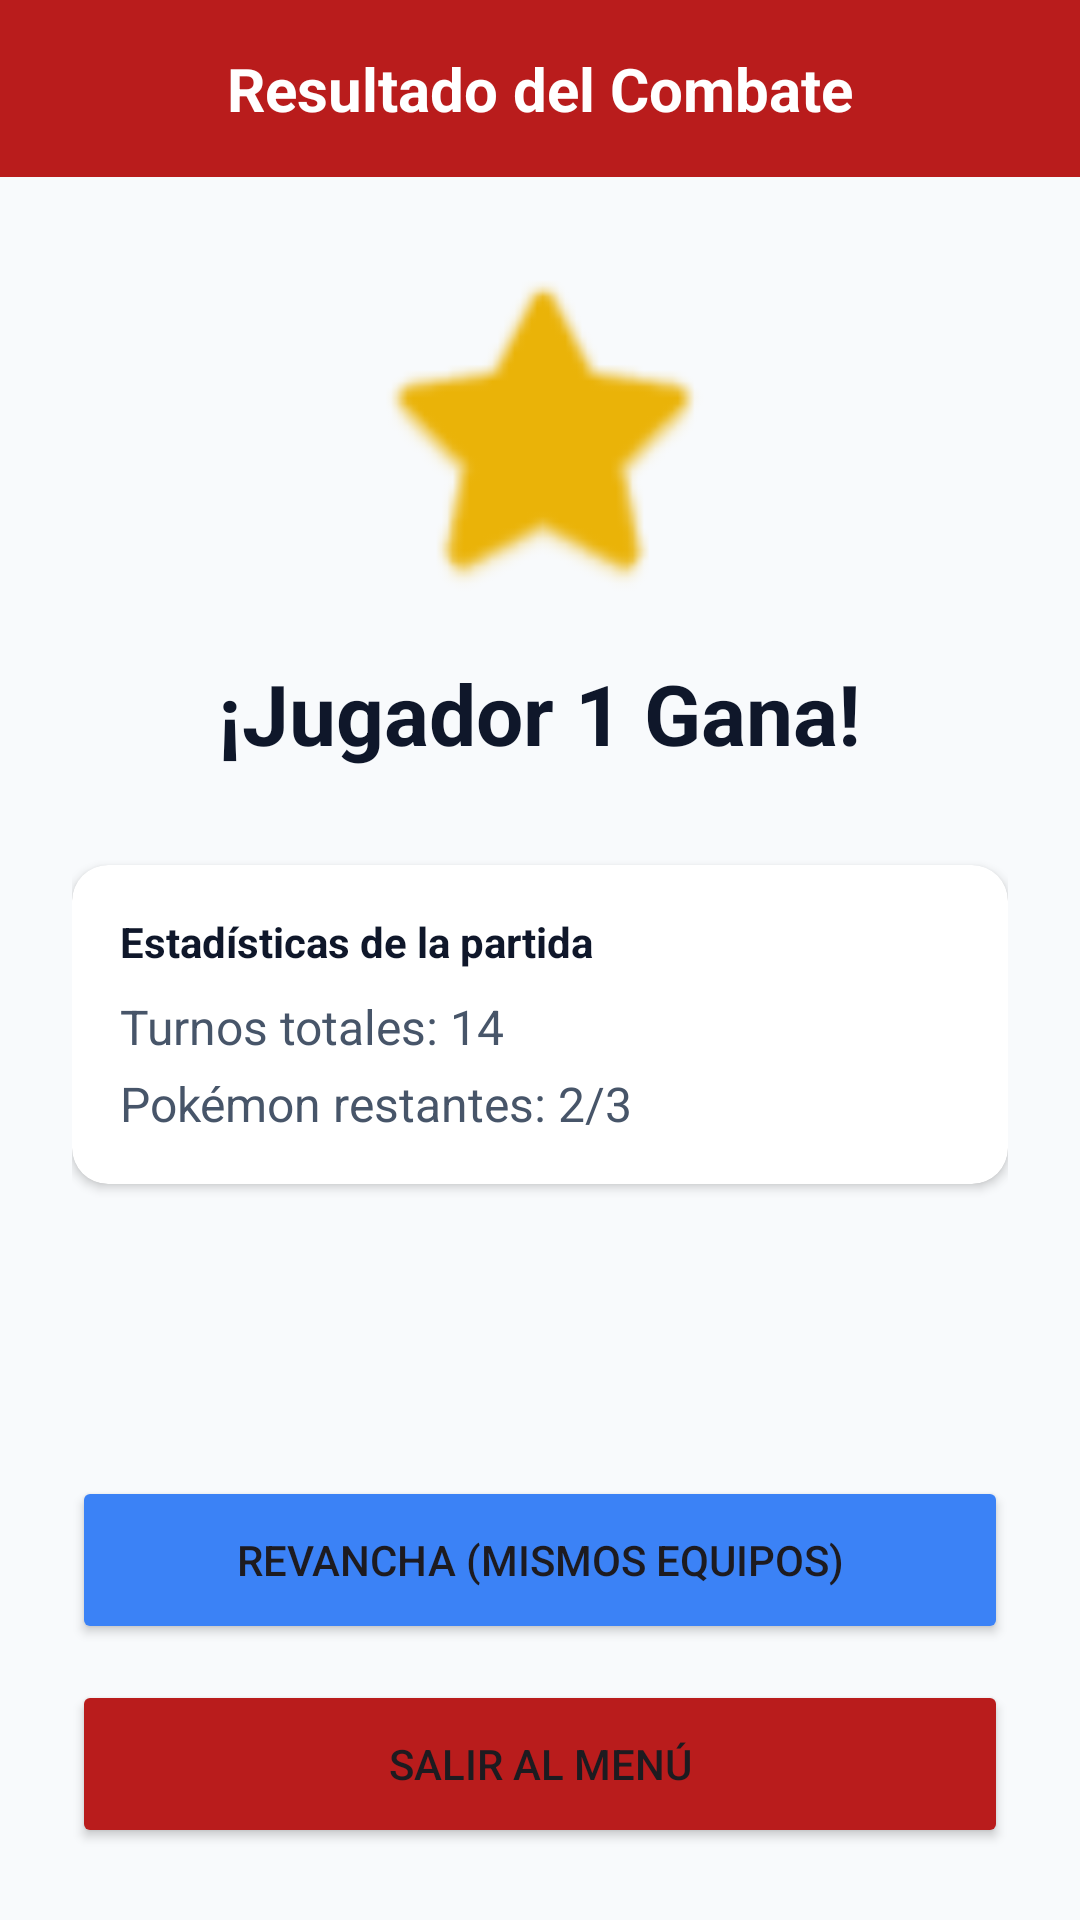

Icon click points for this 1080*1920 phone screenshot, format point (x, y):
star on: point (543, 431)
